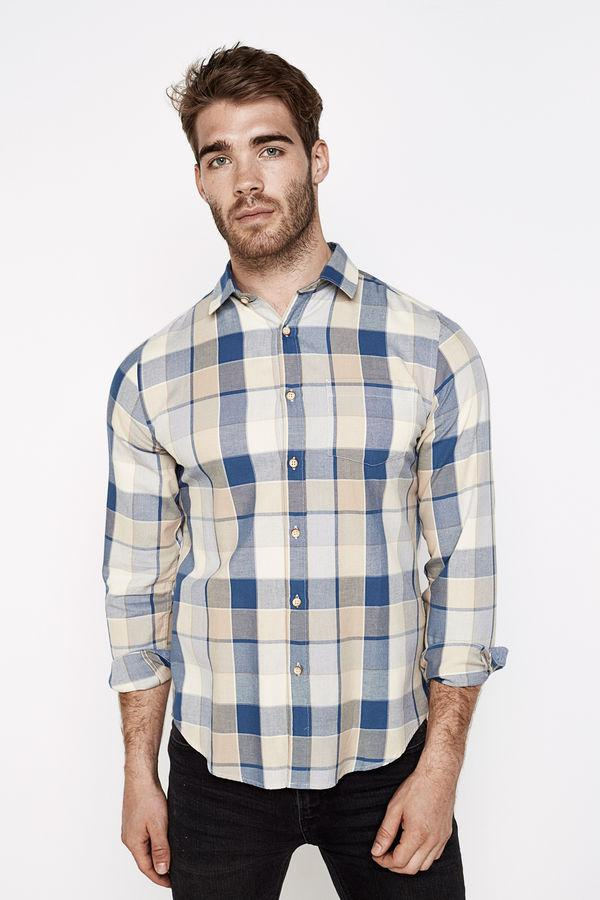teeshirt: (77, 243, 520, 803)
